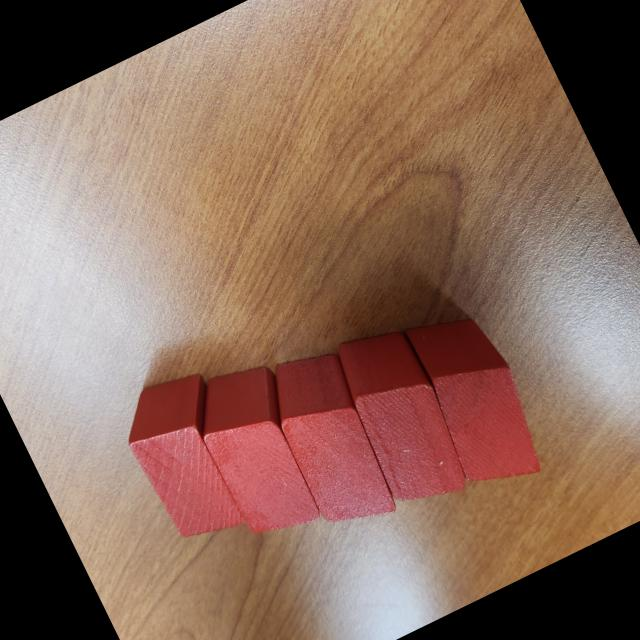red: (396, 297, 558, 505), (321, 314, 480, 520), (180, 350, 342, 552), (252, 337, 410, 540), (108, 362, 270, 556)
